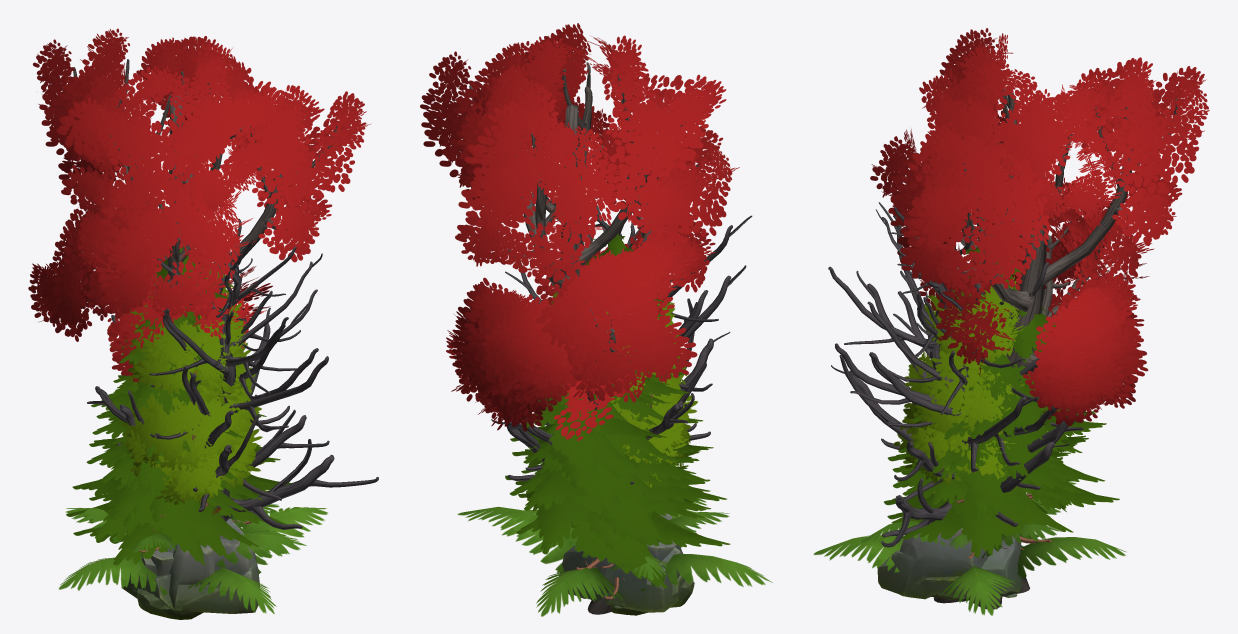
The model's file is nature.glb.
The picture shows the model from 3 angles, left to right: view 1: azimuth 30°, elevation 25°; view 2: azimuth 150°, elevation 25°; view 3: azimuth 270°, elevation 25°; orthographic projection. The views are drawn at different scales.
Parts seen in each view (by area): view 1: TwistedTree_5, DeadTree_2, Fern_1, CommonTree_3, Pine_4, DeadTree_1, Pine_2, CommonTree_1, Pine_5, Rock_Medium_3, CommonTree_2, Rock_Medium_1 (+3 smaller); view 2: TwistedTree_5, Pine_5, Pine_4, Fern_1, Rock_Medium_2, DeadTree_2, Pine_2, DeadTree_1, CommonTree_1, Pine_1, CommonTree_2, CommonTree_3 (+2 smaller); view 3: TwistedTree_5, Pine_5, DeadTree_2, Fern_1, DeadTree_1, Pine_4, Rock_Medium_3, CommonTree_4, CommonTree_3, CommonTree_2, Pine_2, CommonTree_1 (+2 smaller).
Part boxes in pixels (box(x1,y1,x2,y2)): TwistedTree_5: box(28, 28, 371, 381); DeadTree_2: box(119, 219, 378, 529); Fern_1: box(59, 504, 327, 613); CommonTree_3: box(127, 277, 261, 476); Pine_4: box(72, 246, 266, 552); DeadTree_1: box(87, 272, 329, 500); Pine_2: box(73, 381, 270, 565); CommonTree_1: box(125, 380, 264, 504); Pine_5: box(66, 340, 291, 558); Rock_Medium_3: box(137, 518, 259, 619); CommonTree_2: box(122, 366, 262, 507); Rock_Medium_1: box(132, 543, 215, 610); TwistedTree_5: box(420, 23, 739, 614); Pine_5: box(505, 368, 716, 577); Pine_4: box(509, 233, 726, 599); Fern_1: box(457, 498, 772, 616); Rock_Medium_2: box(559, 541, 678, 612); DeadTree_2: box(491, 166, 752, 481); Pine_2: box(516, 380, 730, 588); DeadTree_1: box(505, 223, 708, 484); CommonTree_1: box(621, 367, 700, 486); Pine_1: box(527, 373, 711, 569); CommonTree_2: box(548, 397, 694, 476); CommonTree_3: box(614, 297, 687, 462); TwistedTree_5: box(870, 28, 1209, 609); Pine_5: box(887, 307, 1119, 557); DeadTree_2: box(828, 202, 1069, 603); Fern_1: box(813, 479, 1126, 615); DeadTree_1: box(867, 270, 1085, 501); Pine_4: box(888, 239, 1088, 558); Rock_Medium_3: box(877, 528, 988, 599); CommonTree_4: box(924, 284, 1025, 387); CommonTree_3: box(902, 276, 1018, 472); CommonTree_2: box(893, 356, 1025, 485); Pine_2: box(884, 395, 1073, 555); CommonTree_1: box(899, 359, 1010, 484).
Size of the model in its own units: 10.17 by 15.8 by 10.73.
12 materials, 12 textured.
